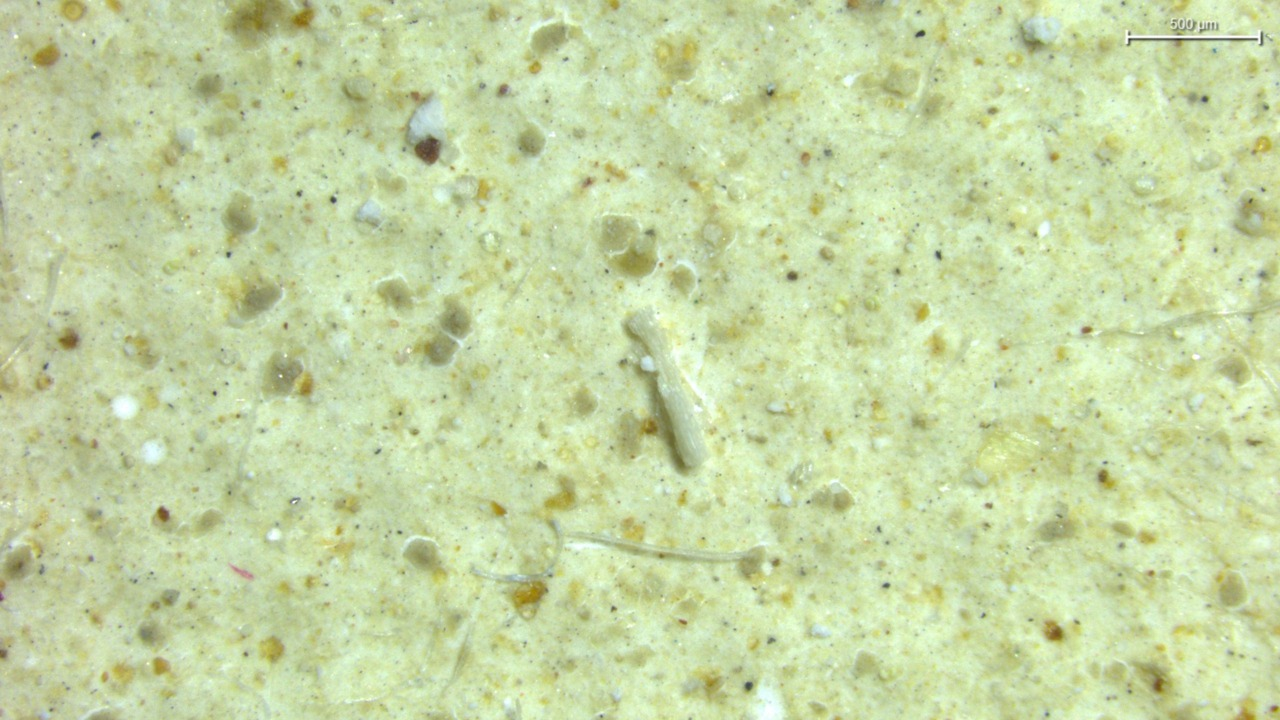microplastic_fragment: (625, 310, 707, 467), (564, 531, 764, 562), (407, 96, 446, 144), (1023, 14, 1063, 44), (355, 199, 382, 226)
